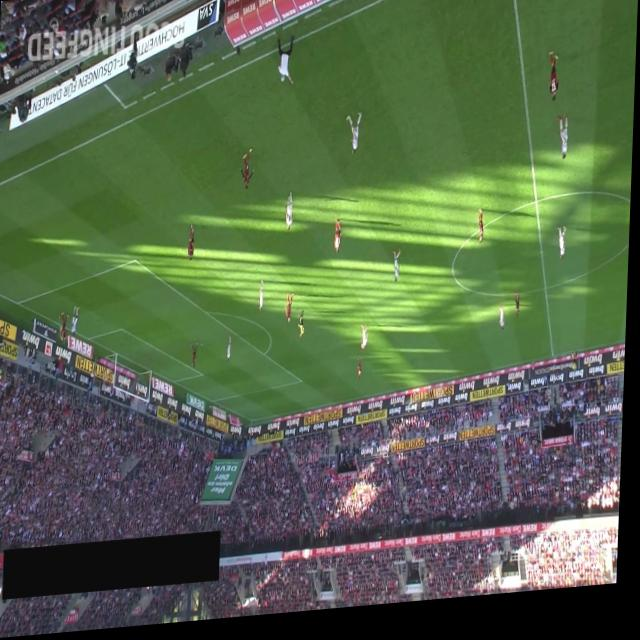player: (345, 118, 362, 162), (547, 60, 561, 112), (241, 152, 256, 195), (556, 125, 569, 170), (557, 236, 568, 270), (286, 196, 295, 236), (60, 313, 71, 343), (394, 255, 403, 290), (72, 306, 81, 338), (335, 224, 343, 260), (189, 226, 196, 265), (287, 298, 296, 328), (362, 329, 371, 357), (479, 217, 486, 251), (192, 345, 201, 371), (514, 300, 522, 328), (500, 312, 507, 340), (260, 284, 266, 316), (228, 339, 233, 367), (359, 363, 364, 385)
referee: (299, 315, 307, 343), (573, 358, 581, 384)
